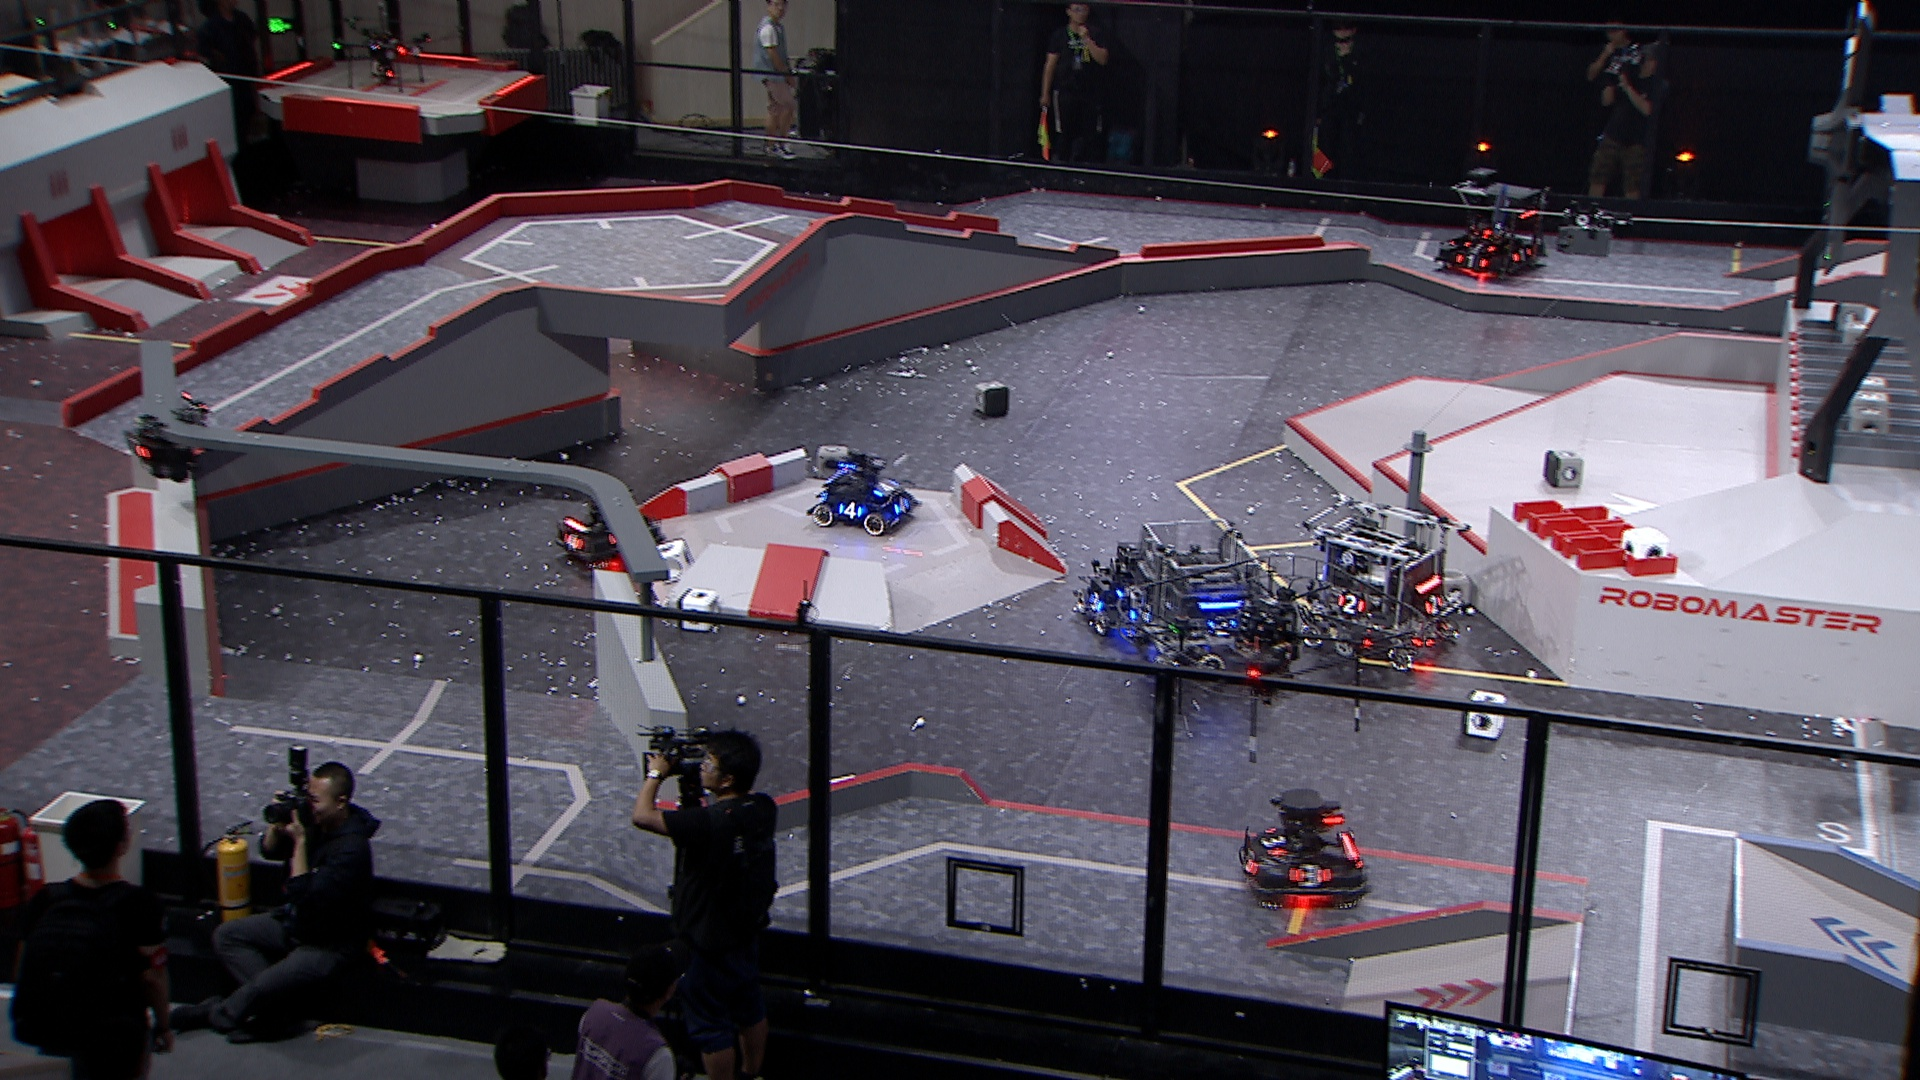armor: (1288, 862, 1332, 889), (121, 431, 153, 462), (1261, 825, 1288, 858), (1453, 251, 1489, 272), (1335, 591, 1366, 615), (1238, 844, 1261, 877), (869, 475, 899, 498), (1207, 616, 1240, 637), (1423, 593, 1447, 618), (836, 500, 865, 520), (1461, 237, 1495, 252), (562, 533, 584, 553), (1084, 589, 1102, 612), (891, 495, 913, 513), (1513, 248, 1534, 262)
car: (1295, 495, 1466, 673), (1117, 520, 1295, 688), (1237, 787, 1371, 913), (1429, 167, 1551, 282), (1072, 538, 1185, 644), (807, 447, 920, 541), (553, 480, 661, 572)
watcher: (119, 390, 216, 483)
